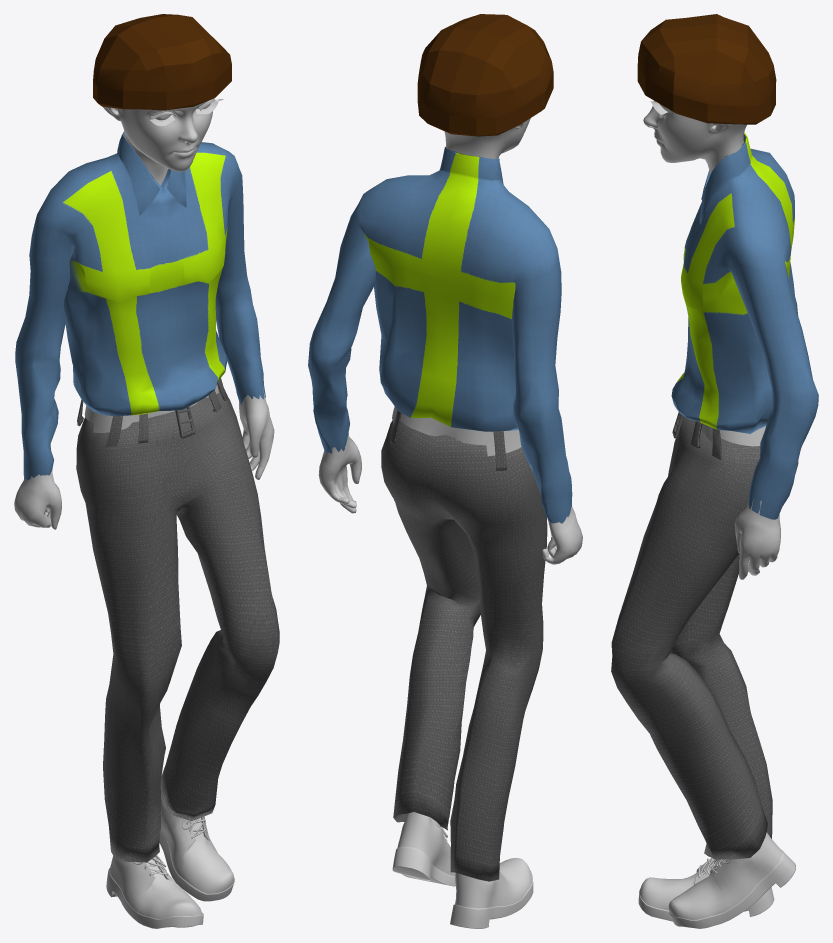
The model's file is Mecanico.fbx.
3 renders of one model, left to right at view 1: azimuth 30°, elevation 25°; view 2: azimuth 150°, elevation 25°; view 3: azimuth 270°, elevation 25°, orthographic.
Visible parts, largest first — view 1: Bottoms, Tops, Hats, Shoes, Body, Gloves; view 2: Tops, Bottoms, Hats, Shoes, Body, Gloves; view 3: Bottoms, Tops, Hats, Shoes, Body, Gloves.
Boxes of the visible parts, x1,y1,x2,y2 form: Bottoms: (76, 378, 279, 862); Tops: (15, 131, 265, 480); Hats: (93, 14, 231, 110); Shoes: (106, 798, 234, 928); Body: (84, 98, 218, 433); Gloves: (14, 386, 274, 529); Tops: (308, 147, 572, 523); Bottoms: (381, 410, 547, 881); Hats: (417, 14, 553, 136); Shoes: (392, 812, 533, 928); Body: (392, 118, 530, 827); Gloves: (318, 433, 582, 564); Bottoms: (611, 412, 798, 859); Tops: (671, 132, 818, 519); Hats: (637, 14, 776, 124); Shoes: (638, 832, 795, 928); Body: (643, 100, 765, 446); Gloves: (734, 498, 780, 579).
Size of the model in its own units: 49.17 by 165 by 34.84.
